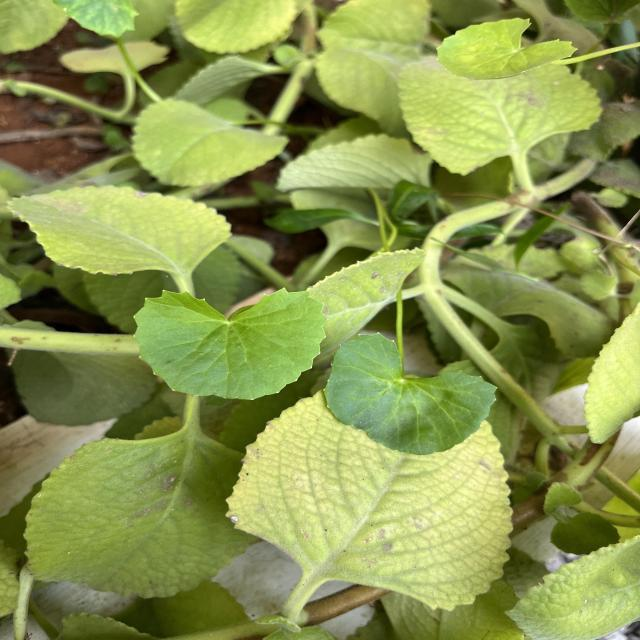Centella asiatica: (128, 284, 332, 404), (318, 328, 503, 458), (432, 15, 582, 84)
